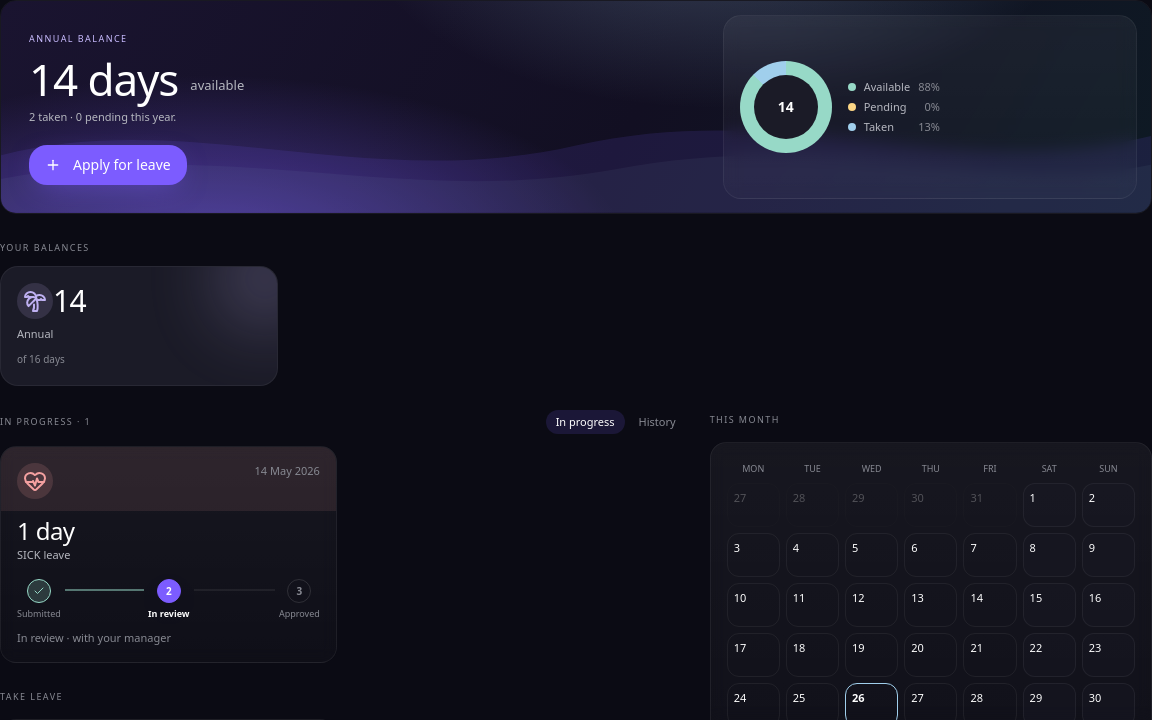
Test: MyLeavePage › opens the request detail drawer with the reason when a card is clicked
The image size is (1152, 720).
Click the text "SICK leave". click: (44, 554)
box: [17,547,70,562]
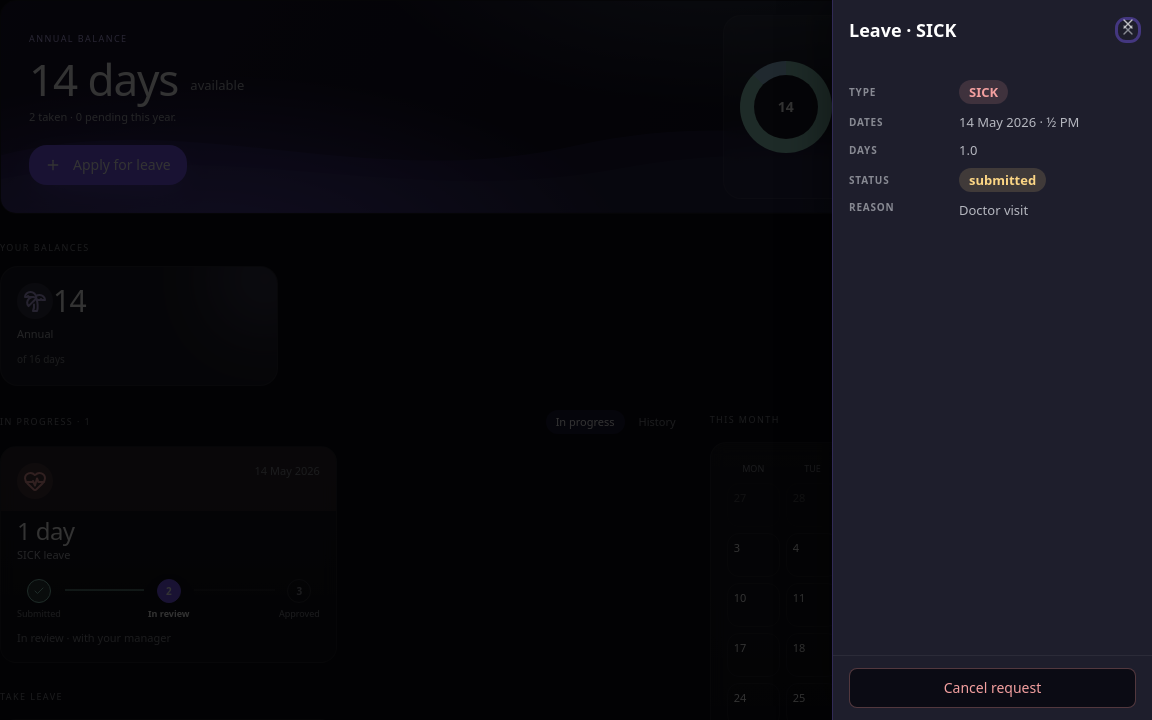
Check: the dialog is shown, box [832,0,1151,719]
Check: the text "Doctor visit" is shown, box [959,201,1028,219]
